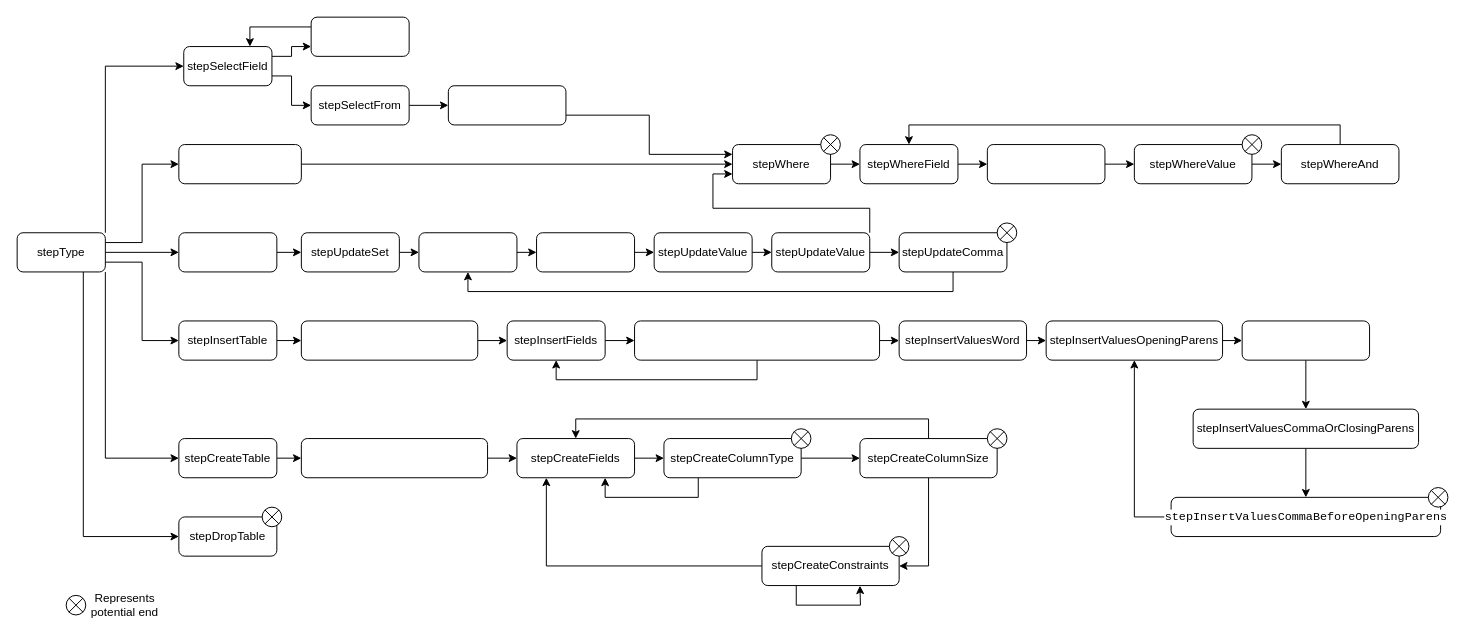
This 1465x637 diagram has some shape labels left out. Here are the shapes that lost their labels. From the top down, the centre of each, then its label:
point (359, 36): stepSelectComma
point (506, 105): stepSelectFromTable
point (239, 164): stepDeleteFromTable
point (1045, 164): stepWhereOperator
point (227, 252): stepUpdateTable
point (467, 252): stepUpdateField
point (585, 252): stepUpdateEquals
point (389, 340): stepInsertFieldsOpeningParens
point (757, 340): stepInsertFieldsCommaOrClosingParens
point (1305, 340): stepInsertValues
point (394, 458): stepCreateFieldsOpeningParens
